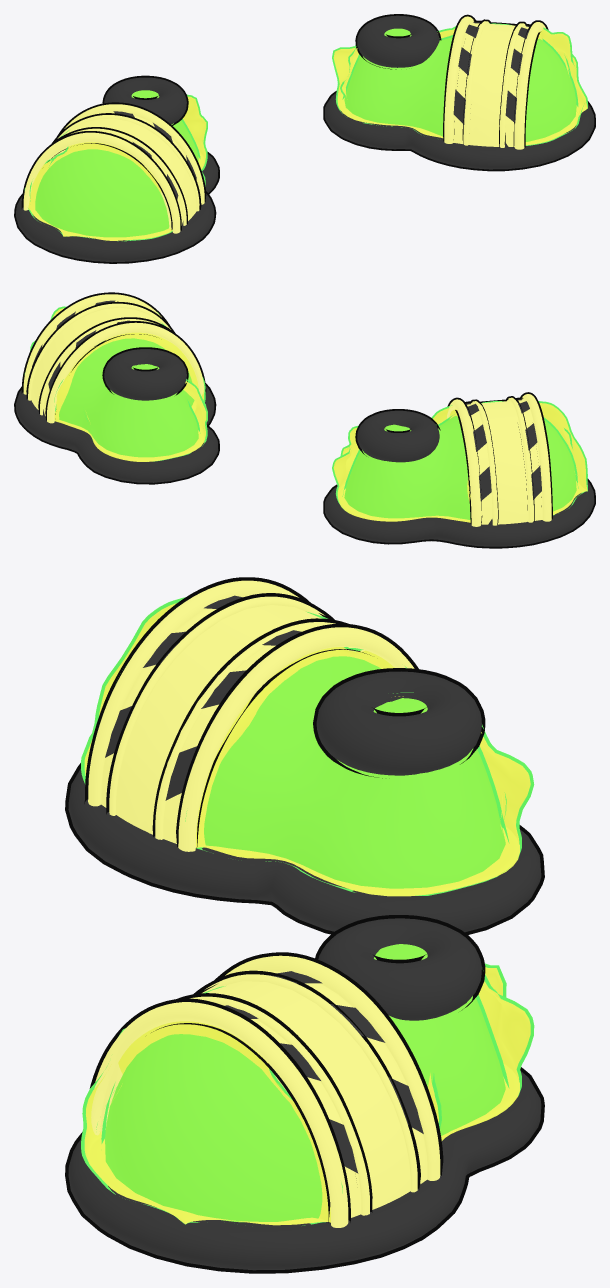
File: SHOES.CHEMISTRY.RADIOACTIVE.glb
The picture shows the model from 3 angles, top to bottom: view 1: azimuth 30°, elevation 25°; view 2: azimuth 150°, elevation 25°; view 3: azimuth 270°, elevation 25°; orthographic projection. The views are drawn at different scales.
Visible parts, largest first — view 1: SHOES.CHEMISTRY.RADIOACTIVE; view 2: SHOES.CHEMISTRY.RADIOACTIVE; view 3: SHOES.CHEMISTRY.RADIOACTIVE.
Boxes of the visible parts, x1,y1,x2,y2 form: SHOES.CHEMISTRY.RADIOACTIVE: (14,14,595,263); SHOES.CHEMISTRY.RADIOACTIVE: (14,292,595,548); SHOES.CHEMISTRY.RADIOACTIVE: (65,577,544,1273).
Size of the model in its own units: 2.7 by 0.5089 by 1.01.
